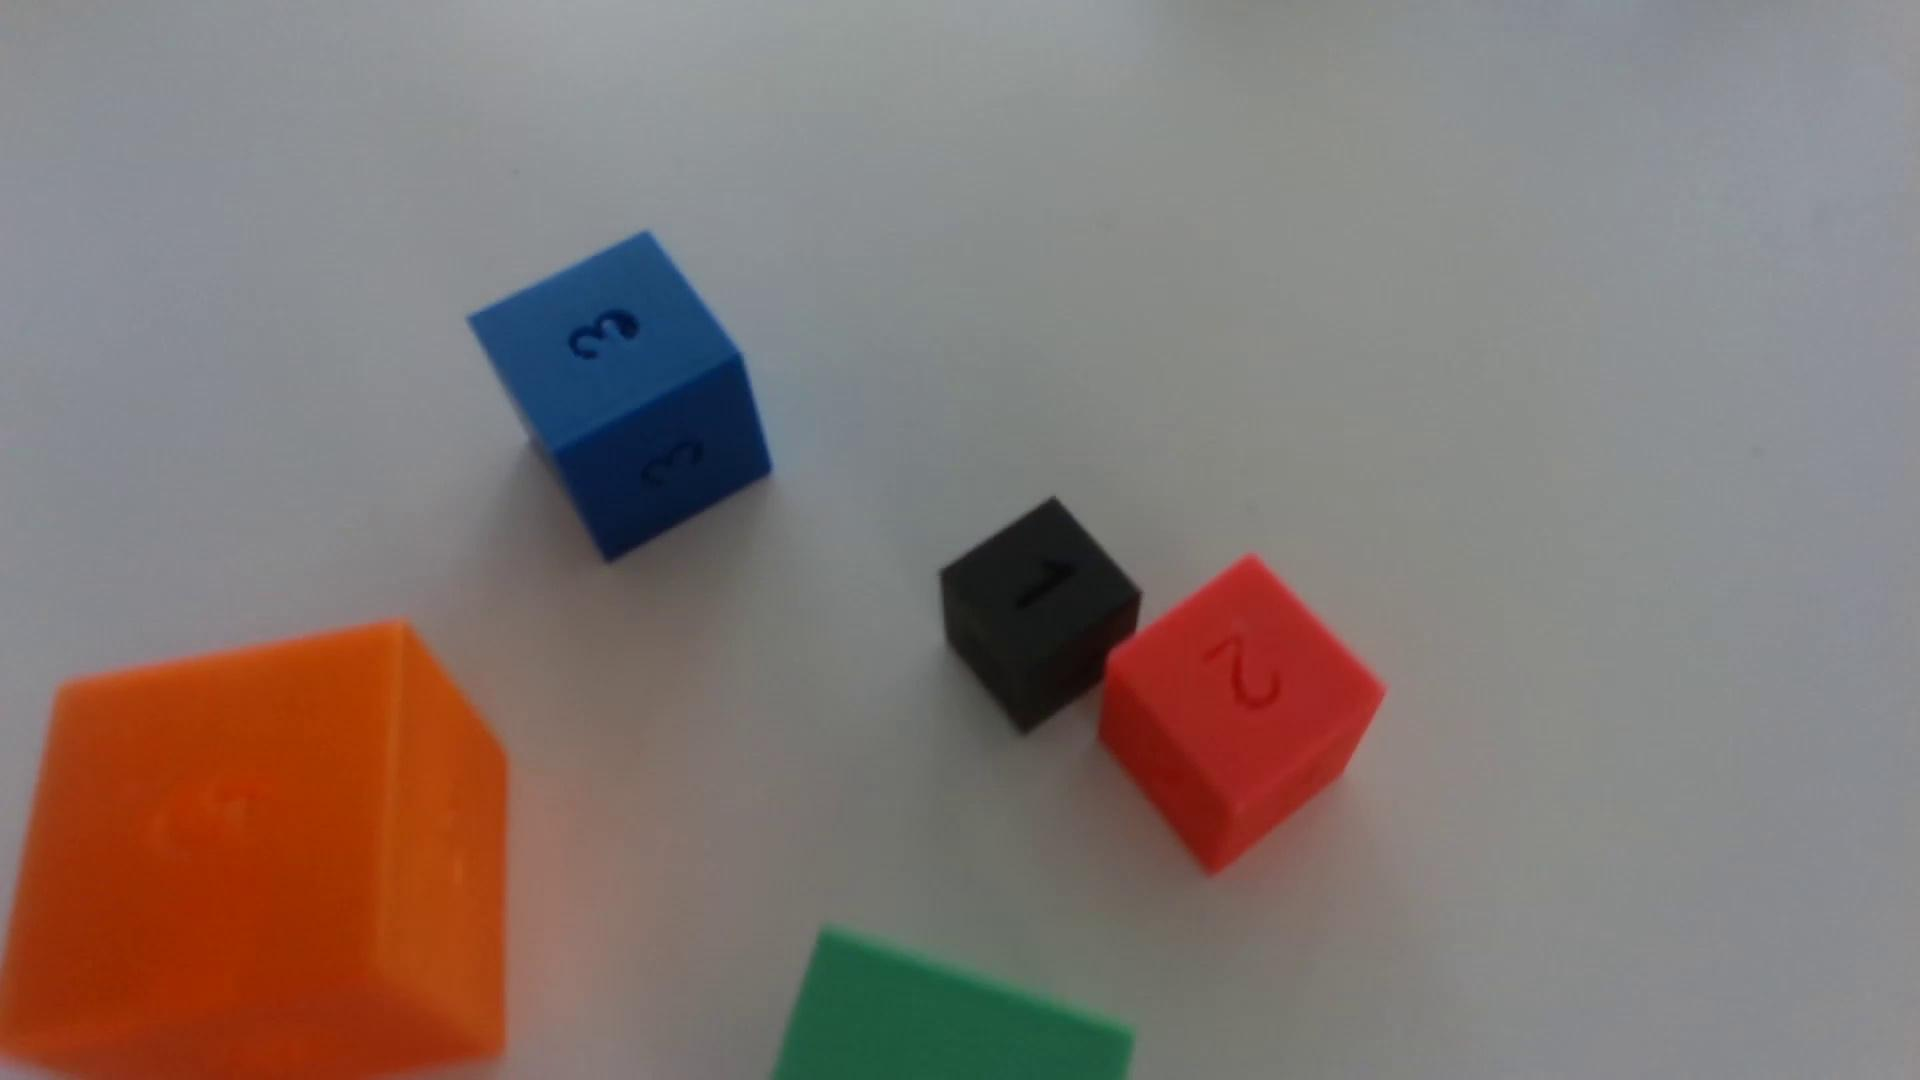black: (940, 498, 1141, 735)
blue: (469, 233, 770, 560)
green: (774, 930, 1134, 1080)
orange: (0, 624, 508, 1080)
red: (1100, 558, 1385, 874)
